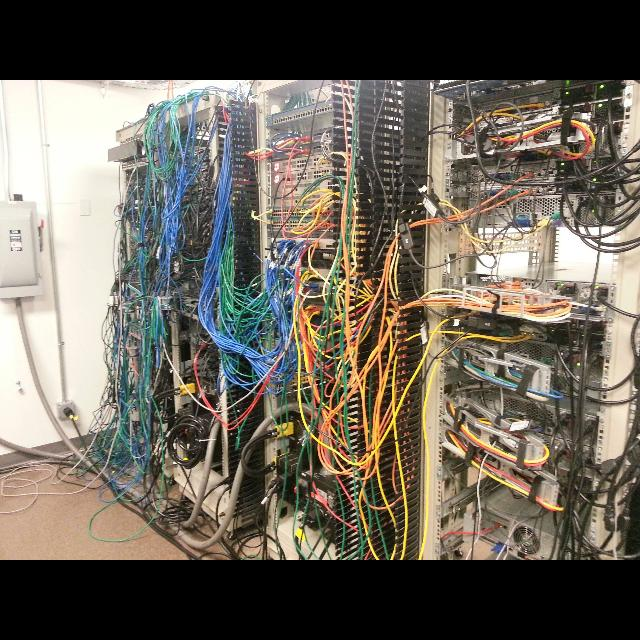Server: (421, 80, 636, 555)
